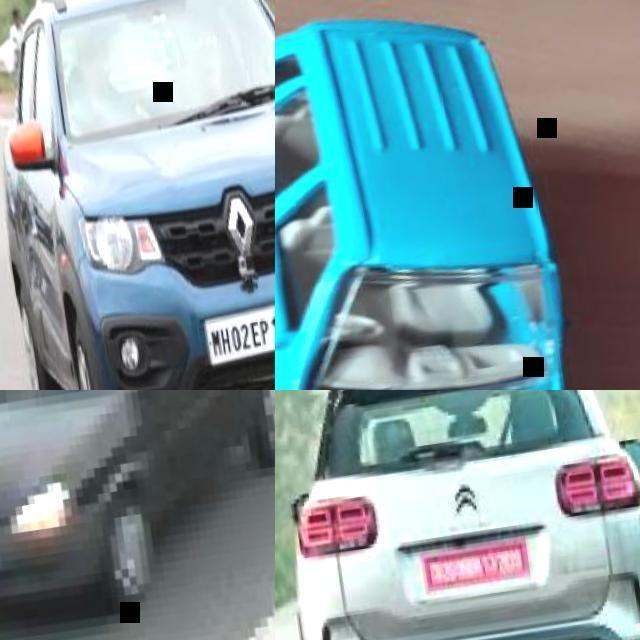car: (281, 8, 581, 396), (3, 0, 277, 392), (292, 392, 640, 640), (0, 395, 276, 611)
